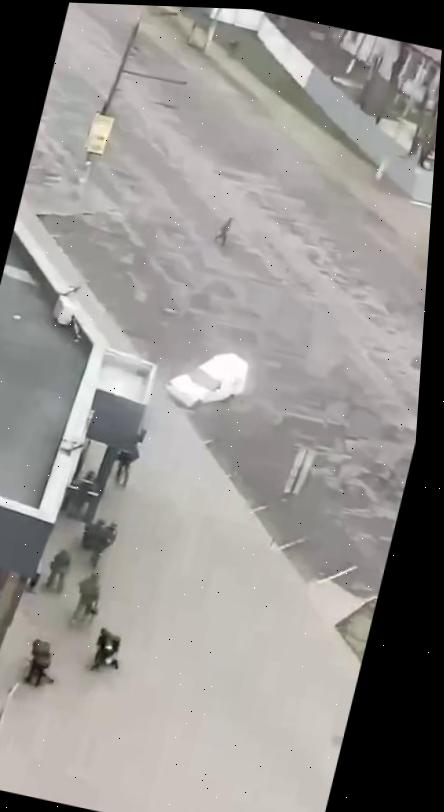car: (159, 339, 254, 421)
person: (66, 568, 107, 629), (85, 624, 129, 676), (18, 634, 56, 689), (109, 435, 143, 486), (88, 516, 121, 568), (42, 545, 74, 593), (78, 513, 109, 552), (211, 211, 236, 246)
